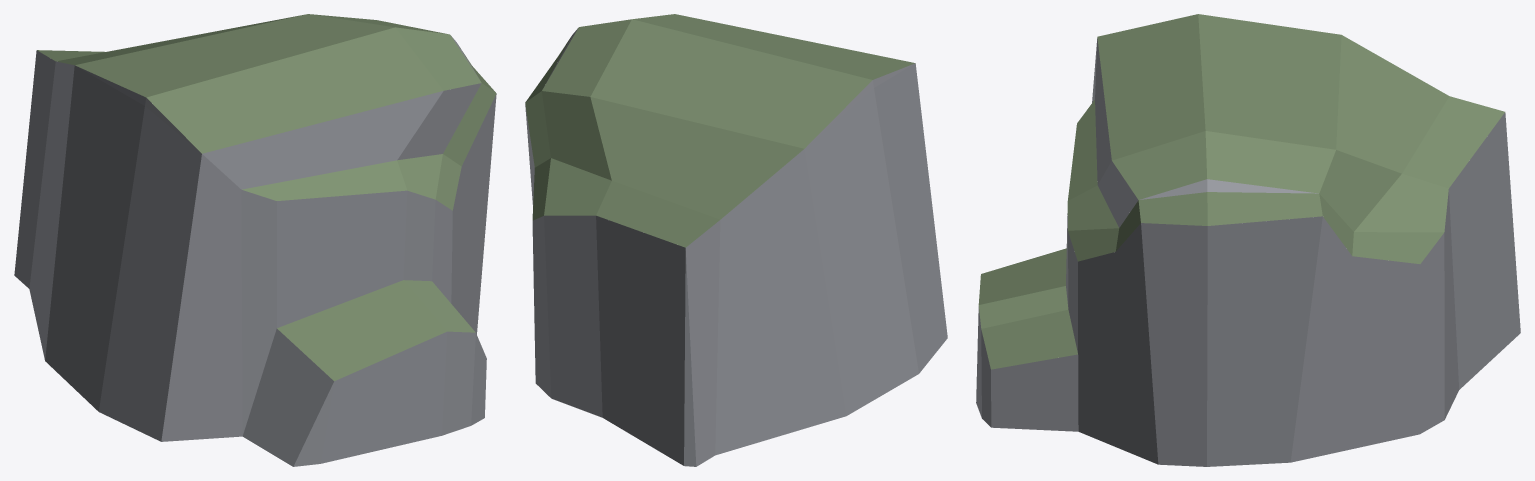
The picture shows the model from 3 angles, left to right: view 1: azimuth 30°, elevation 25°; view 2: azimuth 150°, elevation 25°; view 3: azimuth 270°, elevation 25°; orthographic projection. The views are drawn at different scales.
Parts seen in each view (by area): view 1: Visual; view 2: Visual; view 3: Visual.
Part boxes in pixels (x1,y1,x2,y2): Visual: (14,14,496,466); Visual: (525,14,947,466); Visual: (976,14,1520,466).
Size of the model in its own units: 2.37 by 1.84 by 2.97.
